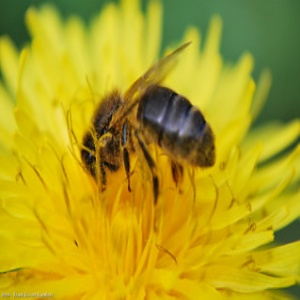bee: (87, 73, 219, 184)
